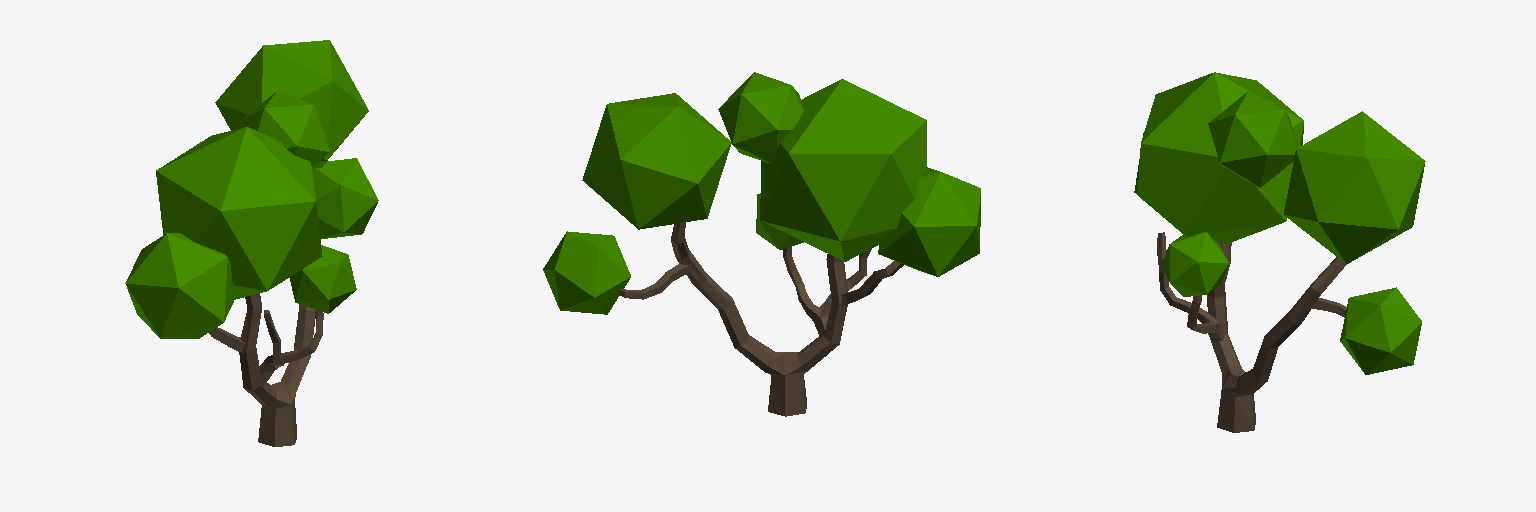
Rendered from Lowpoly_bush.obj.
3 renders of one model, left to right at view 1: azimuth 30°, elevation 25°; view 2: azimuth 150°, elevation 25°; view 3: azimuth 270°, elevation 25°, orthographic.
Visible parts, largest first — view 1: Tree_lp_11; view 2: Tree_lp_11; view 3: Tree_lp_11.
Boxes of the visible parts, x1,y1,x2,y2 form: Tree_lp_11: [125, 40, 378, 446]; Tree_lp_11: [543, 72, 980, 416]; Tree_lp_11: [1134, 72, 1425, 432].
Bounding box in the file's own units: 27.98 × 26.54 × 20.8.